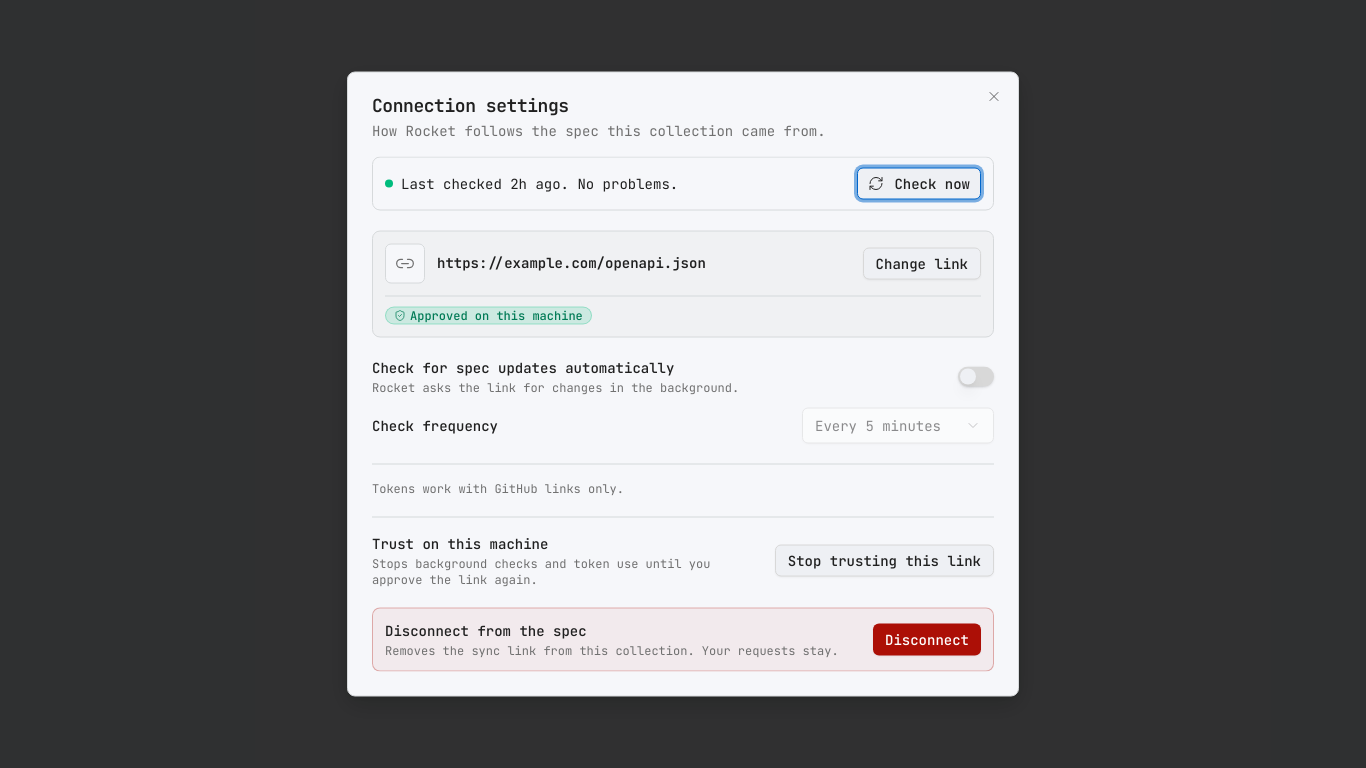
Test: OpenApiSyncConnectionDialog › check after turning checks on › the_outcome_shows_in_the_status_row
Click the switch named "Check for spec updates automatically": x=976, y=376 [958,366,994,386]
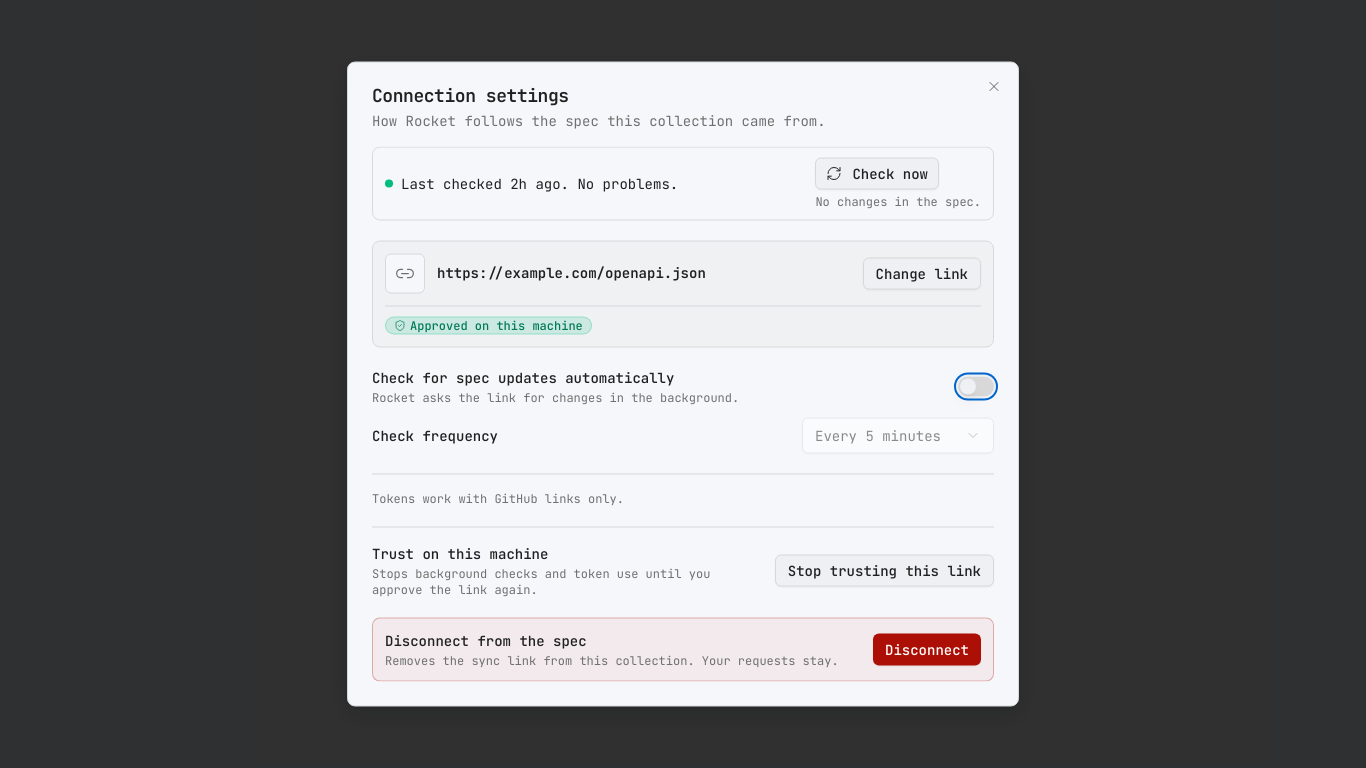
Check: the text "No changes in the spec." is shown, box [815,194,981,210]
